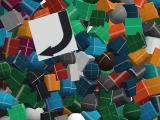Right: (28, 9, 78, 61)
